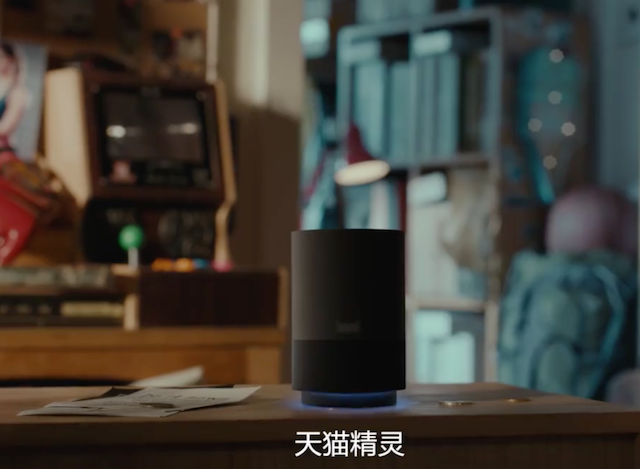audio: (270, 218, 429, 419)
